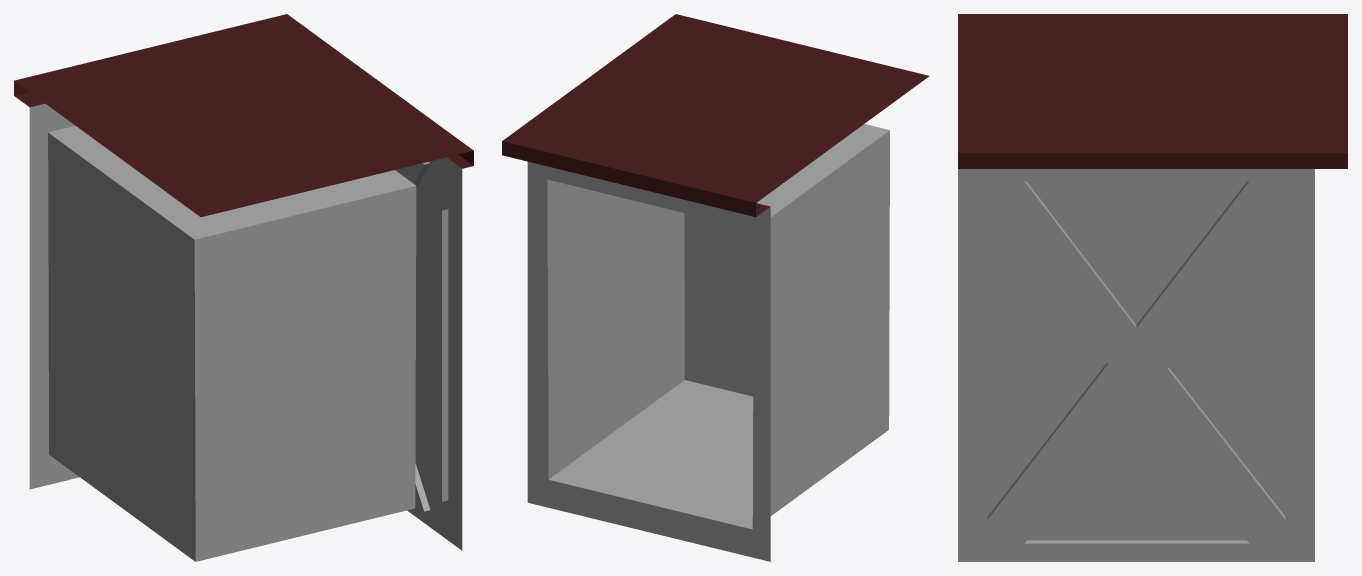
File: LeftCabinet.fbx
3 views of the same model, side by side, from view 1: azimuth 30°, elevation 25°; view 2: azimuth 150°, elevation 25°; view 3: azimuth 270°, elevation 25° (orthographic). The views are drawn at different scales.
Visible parts, largest first — view 1: polySurface101; view 2: polySurface101; view 3: polySurface101.
Part boxes in pixels (x1,y1,x2,y2): polySurface101: (14,14,473,561); polySurface101: (502,14,929,561); polySurface101: (958,14,1347,561).
Size of the model in its own units: 1.57 by 2.18 by 1.86.
